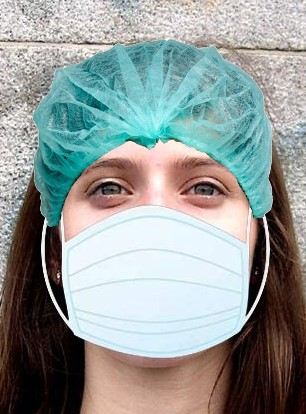with_mask_and_cap: (36, 40, 275, 359)
